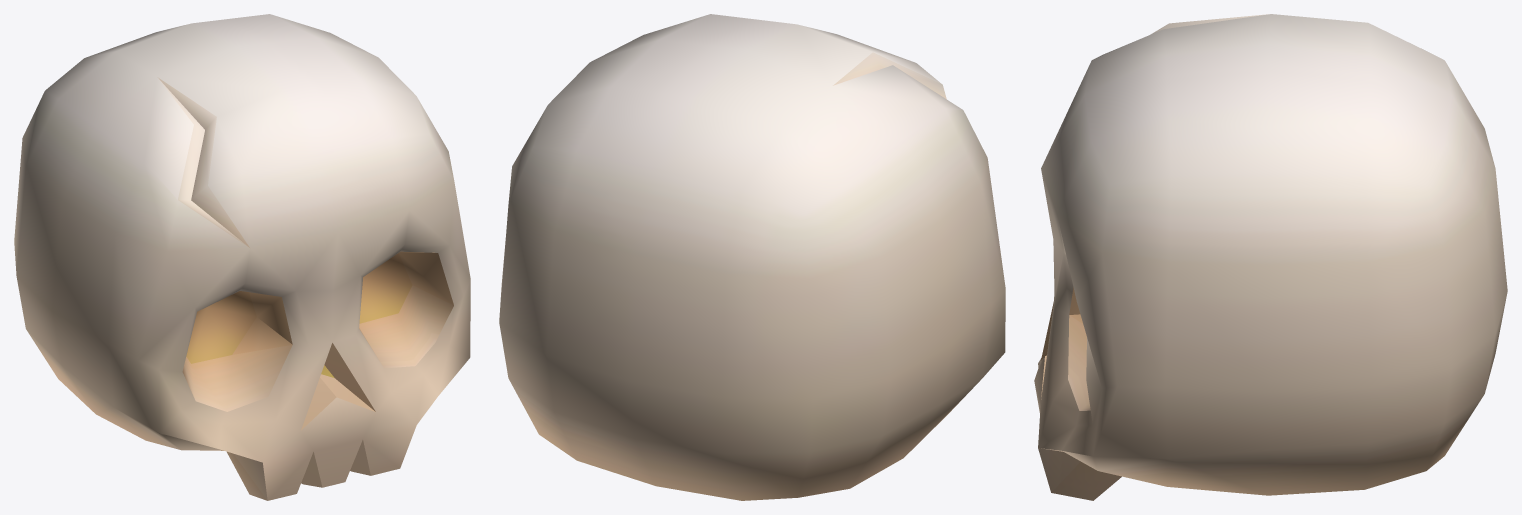
The model's file is skull.glb.
3 views of the same model, side by side, from view 1: azimuth 30°, elevation 25°; view 2: azimuth 150°, elevation 25°; view 3: azimuth 270°, elevation 25° (orthographic). The views are drawn at different scales.
Visible parts, largest first — view 1: skull; view 2: skull; view 3: skull.
Boxes of the visible parts, x1,y1,x2,y2 form: skull: (14, 14, 470, 500); skull: (499, 14, 1005, 500); skull: (1034, 14, 1507, 500).
Bounding box in the file's own units: 0.9176 × 0.8982 × 0.9072.
1 material, 1 textured.
